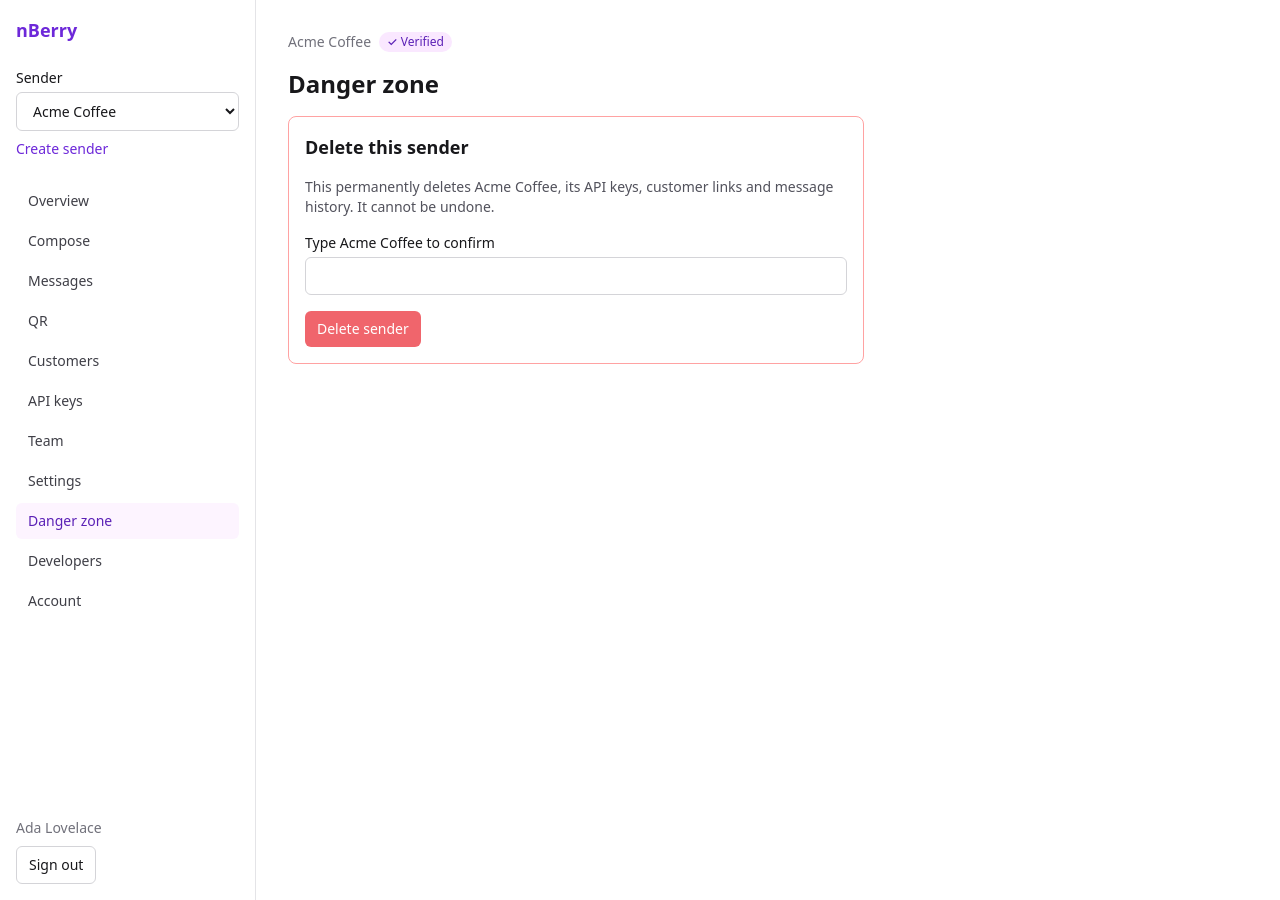
Test: danger zone › delete stays disabled until the exact name is typed and sends confirm_name
This screenshot has width=1280, height=900.
Check: the button "Delete sender" is disabled, box top-left (305, 311), bottom-right (421, 347)
Type "acme coffee" into the field labelled "Type Acme Coffee to confirm".
click(576, 276); type("acme coffee")  # box top-left (305, 257), bottom-right (847, 295)
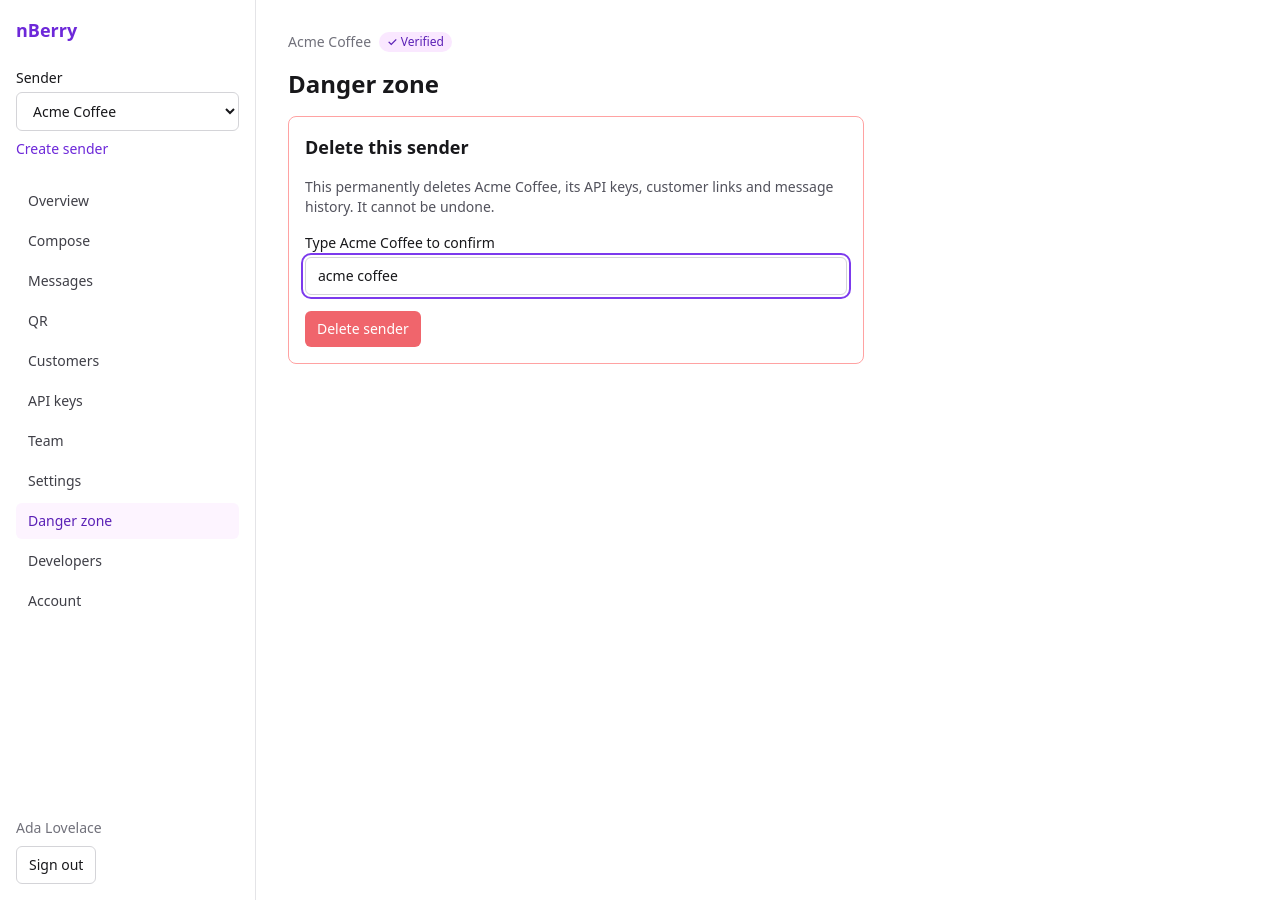
Check: the button "Delete sender" is disabled, box top-left (305, 311), bottom-right (421, 347)
Replace the text in the field labelled "Type Acme Coffee to confirm" with "Acme Coffee" at (576, 276), box top-left (305, 257), bottom-right (847, 295)
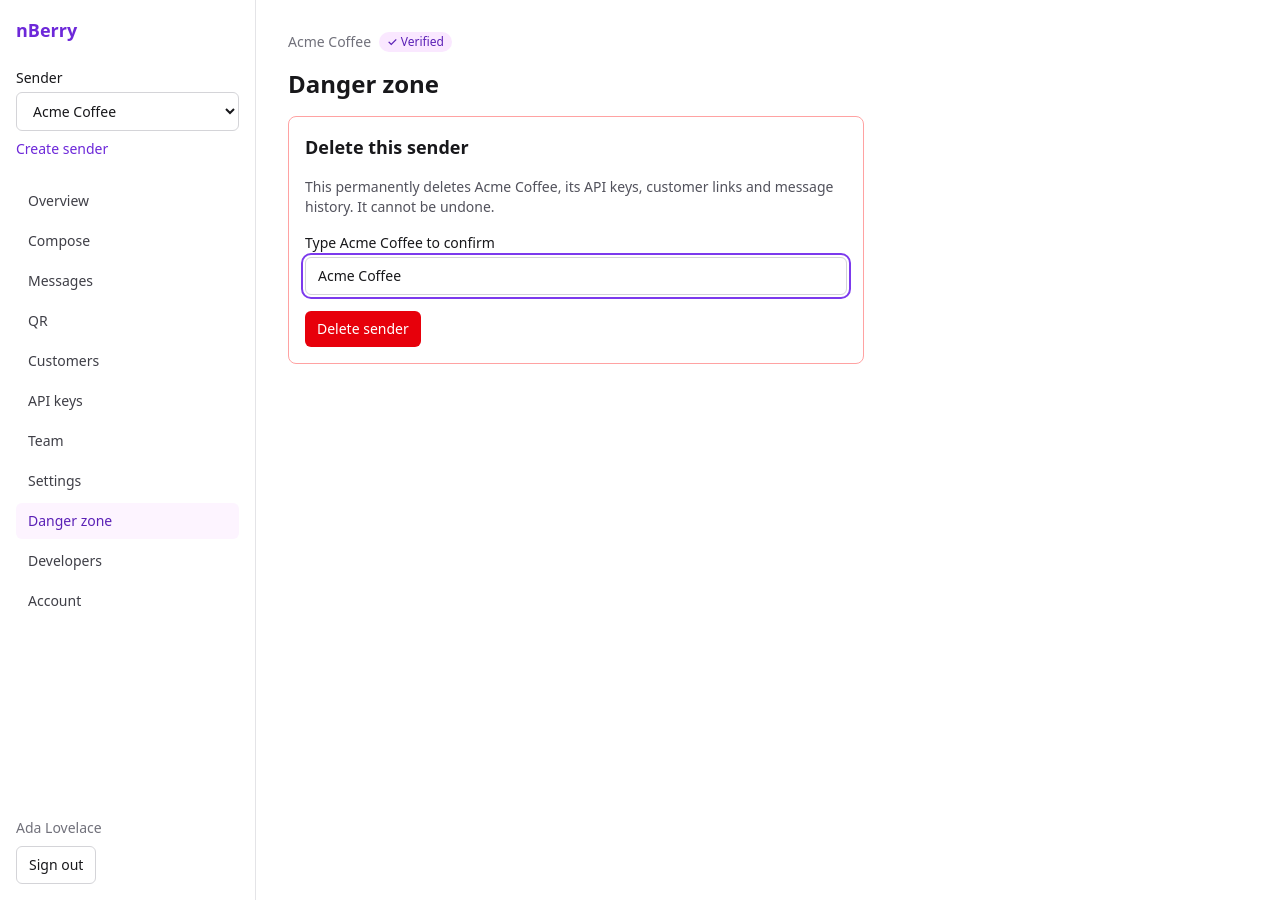
Check: the button "Delete sender" is enabled
Click the button "Delete sender".
click(363, 329)  # box top-left (305, 311), bottom-right (421, 347)
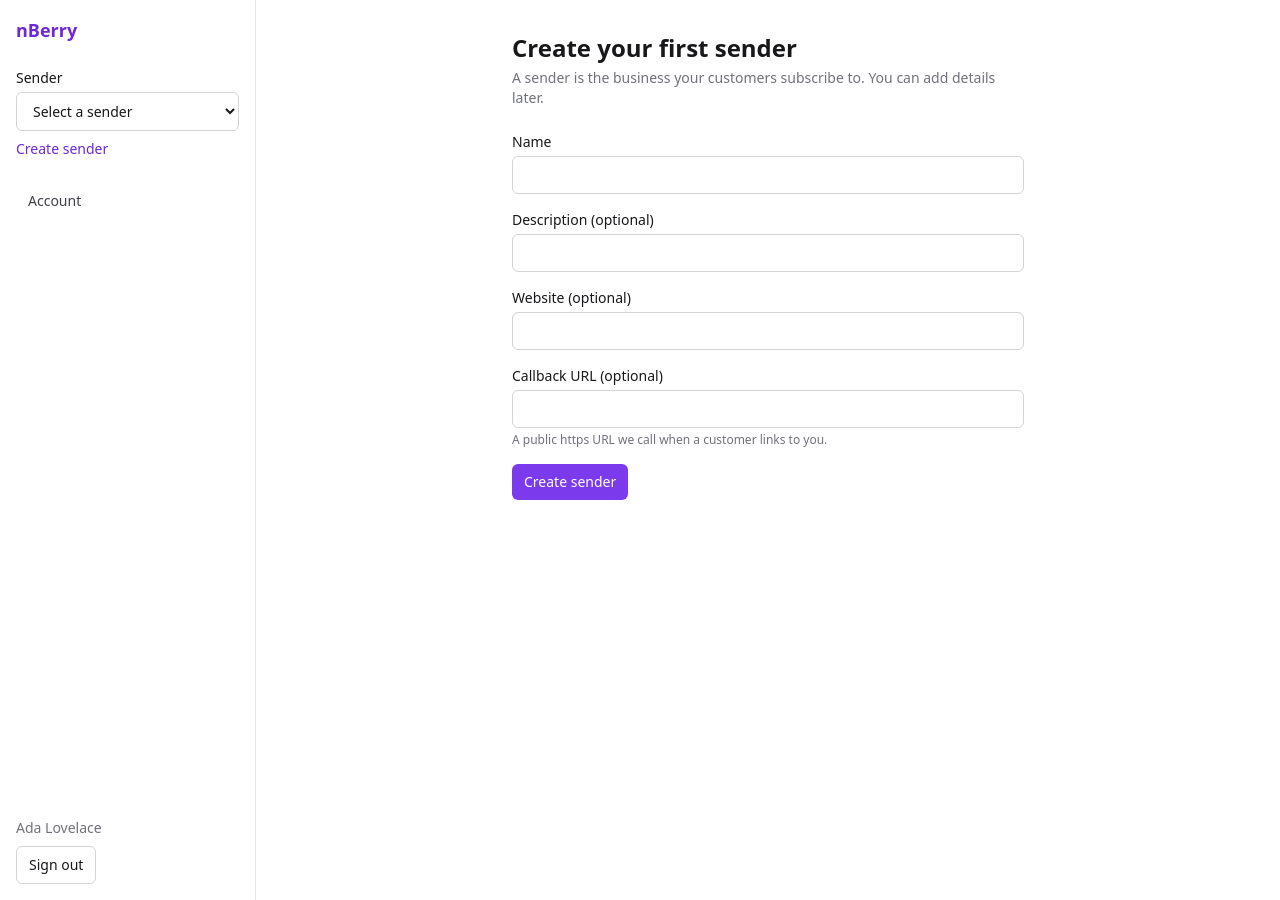
Check: the heading "Create your first sender" is shown, box top-left (512, 31), bottom-right (797, 64)
